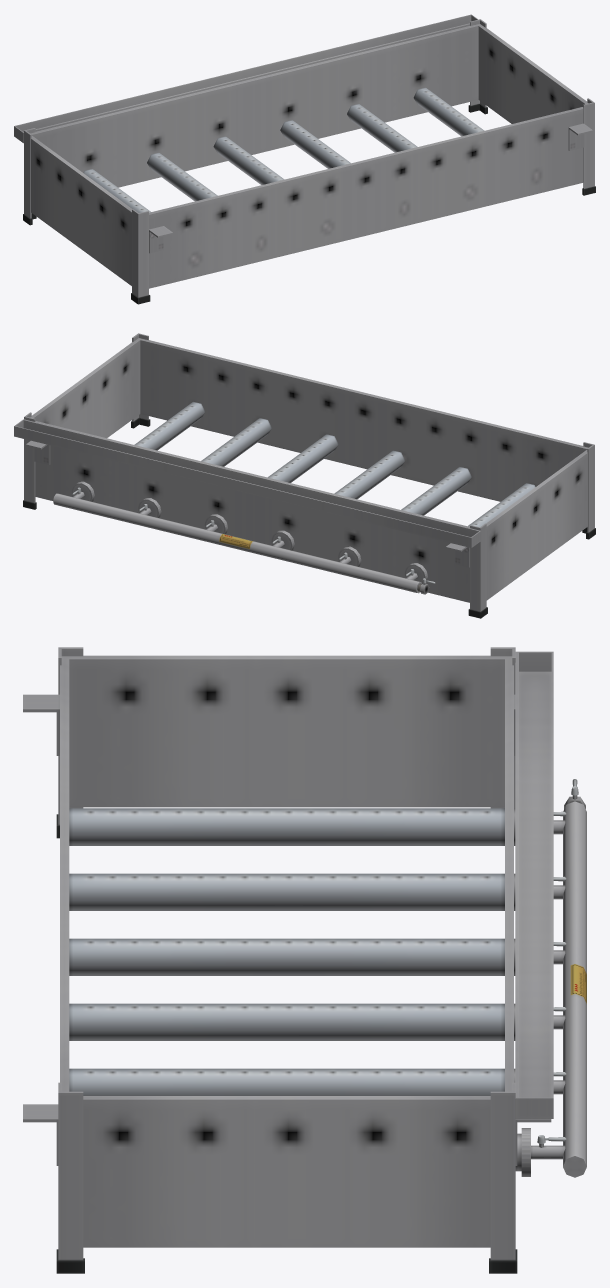
File: jsf_GasRange_02full.fbx
3 renders of one model, top to bottom at view 1: azimuth 30°, elevation 25°; view 2: azimuth 150°, elevation 25°; view 3: azimuth 270°, elevation 25°, orthographic. The views are drawn at different scales.
Parts seen in each view (by area): view 1: GasRange02, Dustpan02, Stopper02; view 2: GasRange02, Dustpan02, Stopper02; view 3: GasRange02, Dustpan02, Stopper02.
Boxes of the visible parts, x1,y1,x2,y2 form: GasRange02: (23,19,595,304); Dustpan02: (14,14,477,143); Stopper02: (149,123,592,253); GasRange02: (23,333,595,618); Dustpan02: (14,419,481,547); Stopper02: (26,440,469,567); GasRange02: (56,647,586,1273); Dustpan02: (515,651,553,1118); Stopper02: (23,694,551,1165).
Bounding box in the file's own units: 128 × 24 × 68.26.
